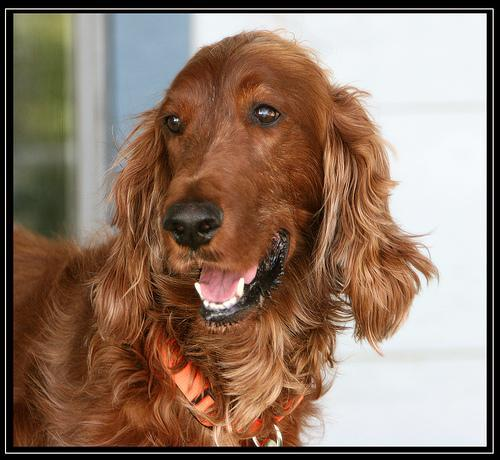Irish_setter: (14, 29, 438, 446)
